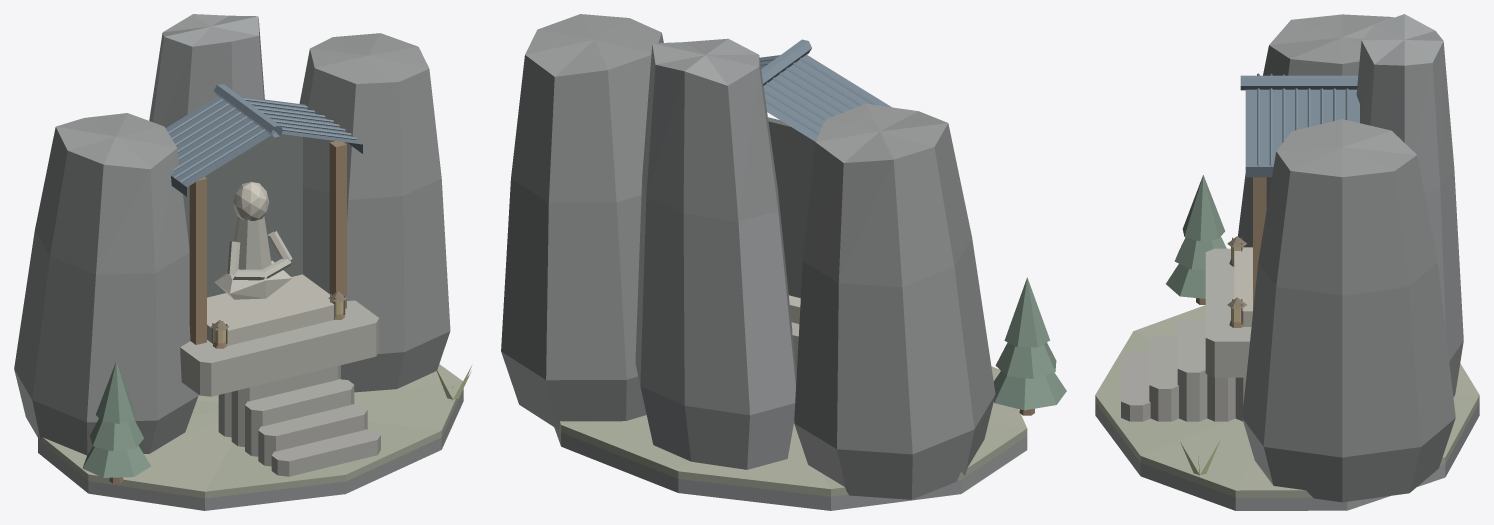
3 renders of one model, left to right at view 1: azimuth 30°, elevation 25°; view 2: azimuth 150°, elevation 25°; view 3: azimuth 270°, elevation 25°, orthographic. The views are drawn at different scales.
Parts seen in each view (by area): view 1: S09; view 2: S09; view 3: S09.
Part boxes in pixels (<box>): S09: <box>14,14,471,510</box>; S09: <box>501,14,1066,510</box>; S09: <box>1095,14,1479,510</box>.
Size of the model in its own units: 4.49 by 3.74 by 3.4.
